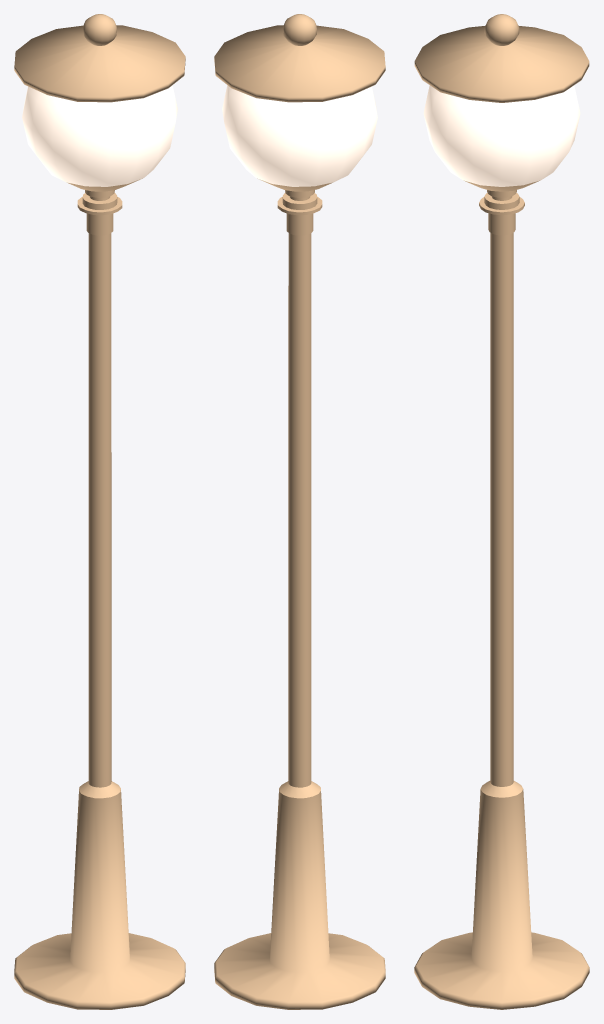
Rendered from Light_Fixture_04.glb.
The picture shows the model from 3 angles, left to right: view 1: azimuth 30°, elevation 25°; view 2: azimuth 150°, elevation 25°; view 3: azimuth 270°, elevation 25°; orthographic projection.
Parts seen in each view (by area): view 1: LightFixture04.044; view 2: LightFixture04.044; view 3: LightFixture04.044.
Boxes of the visible parts, left/top/right/bottom form: LightFixture04.044: left=14, top=14, right=185, bottom=1009; LightFixture04.044: left=214, top=14, right=385, bottom=1009; LightFixture04.044: left=414, top=14, right=589, bottom=1009.
Size of what is drawn, in the model's own units: 0.6658 by 4.02 by 0.6658.
